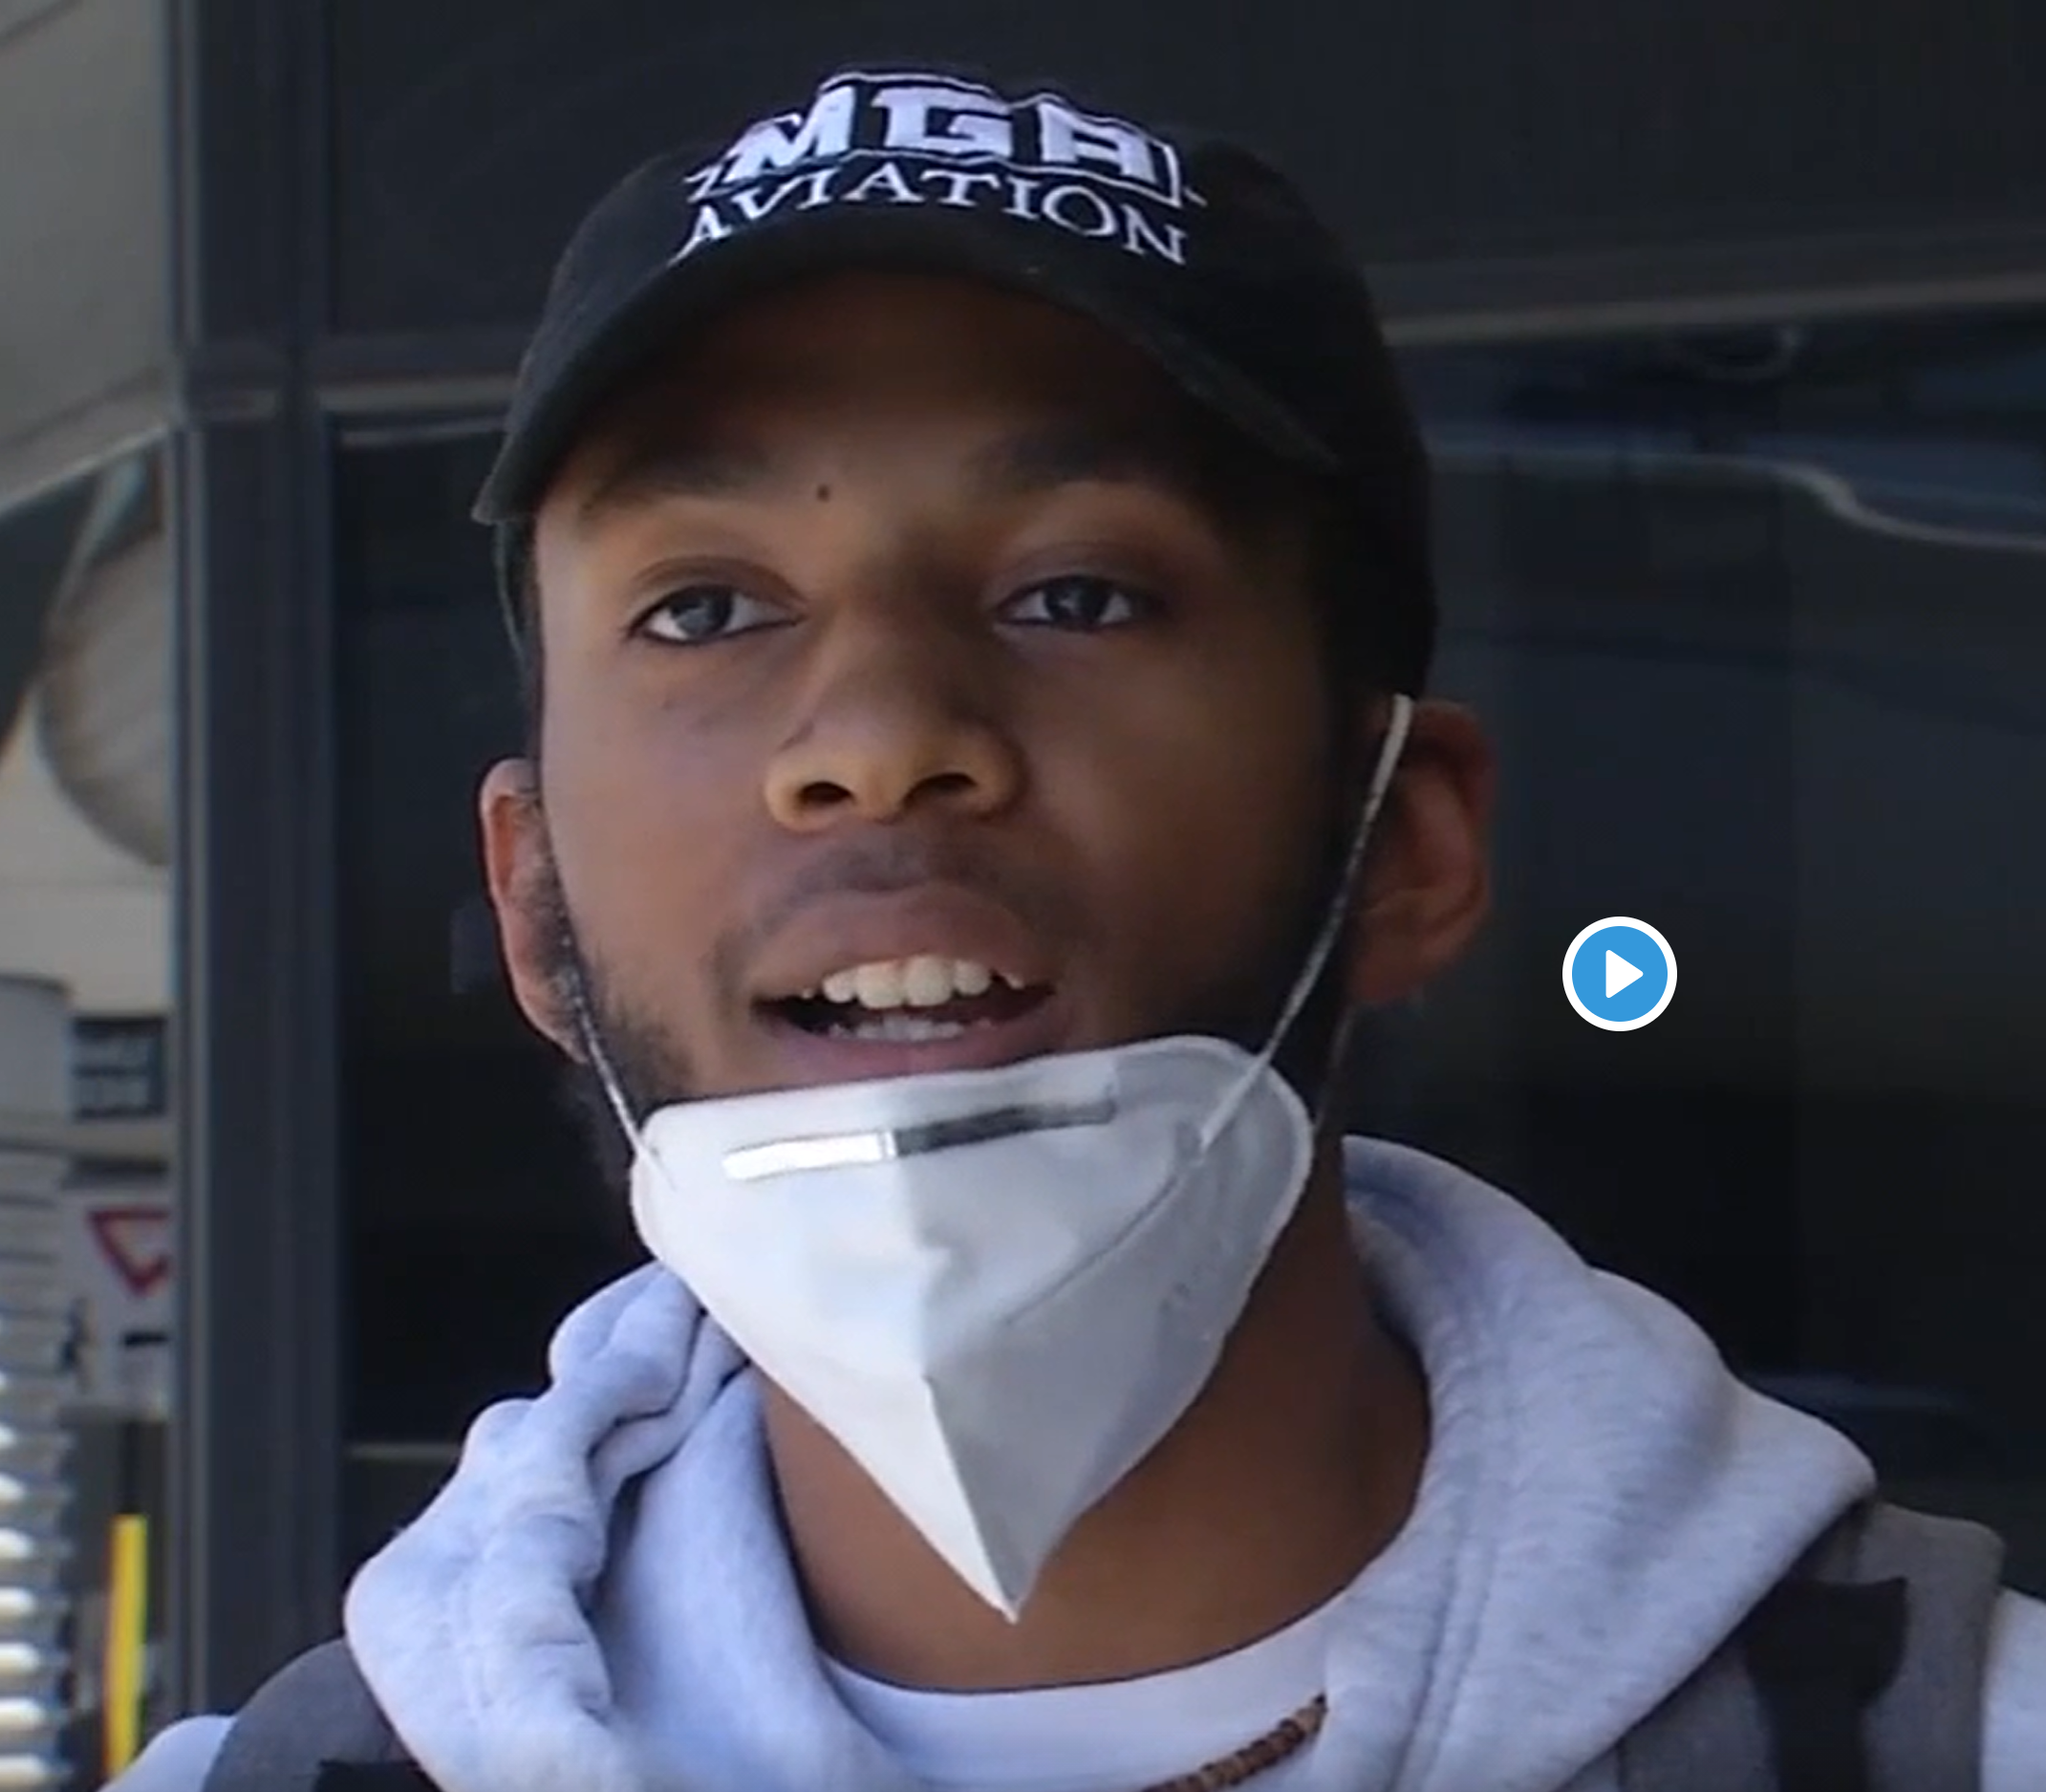mask_weared_incorrect: (475, 287, 1487, 1612)
